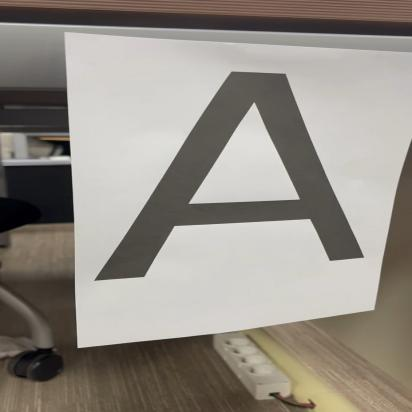seat: (84, 57, 374, 284)
